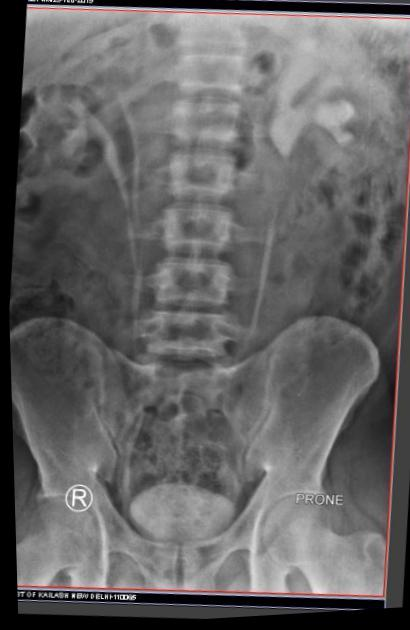bladder: (116, 471, 240, 555)
vertebrae: (161, 96, 244, 155)
